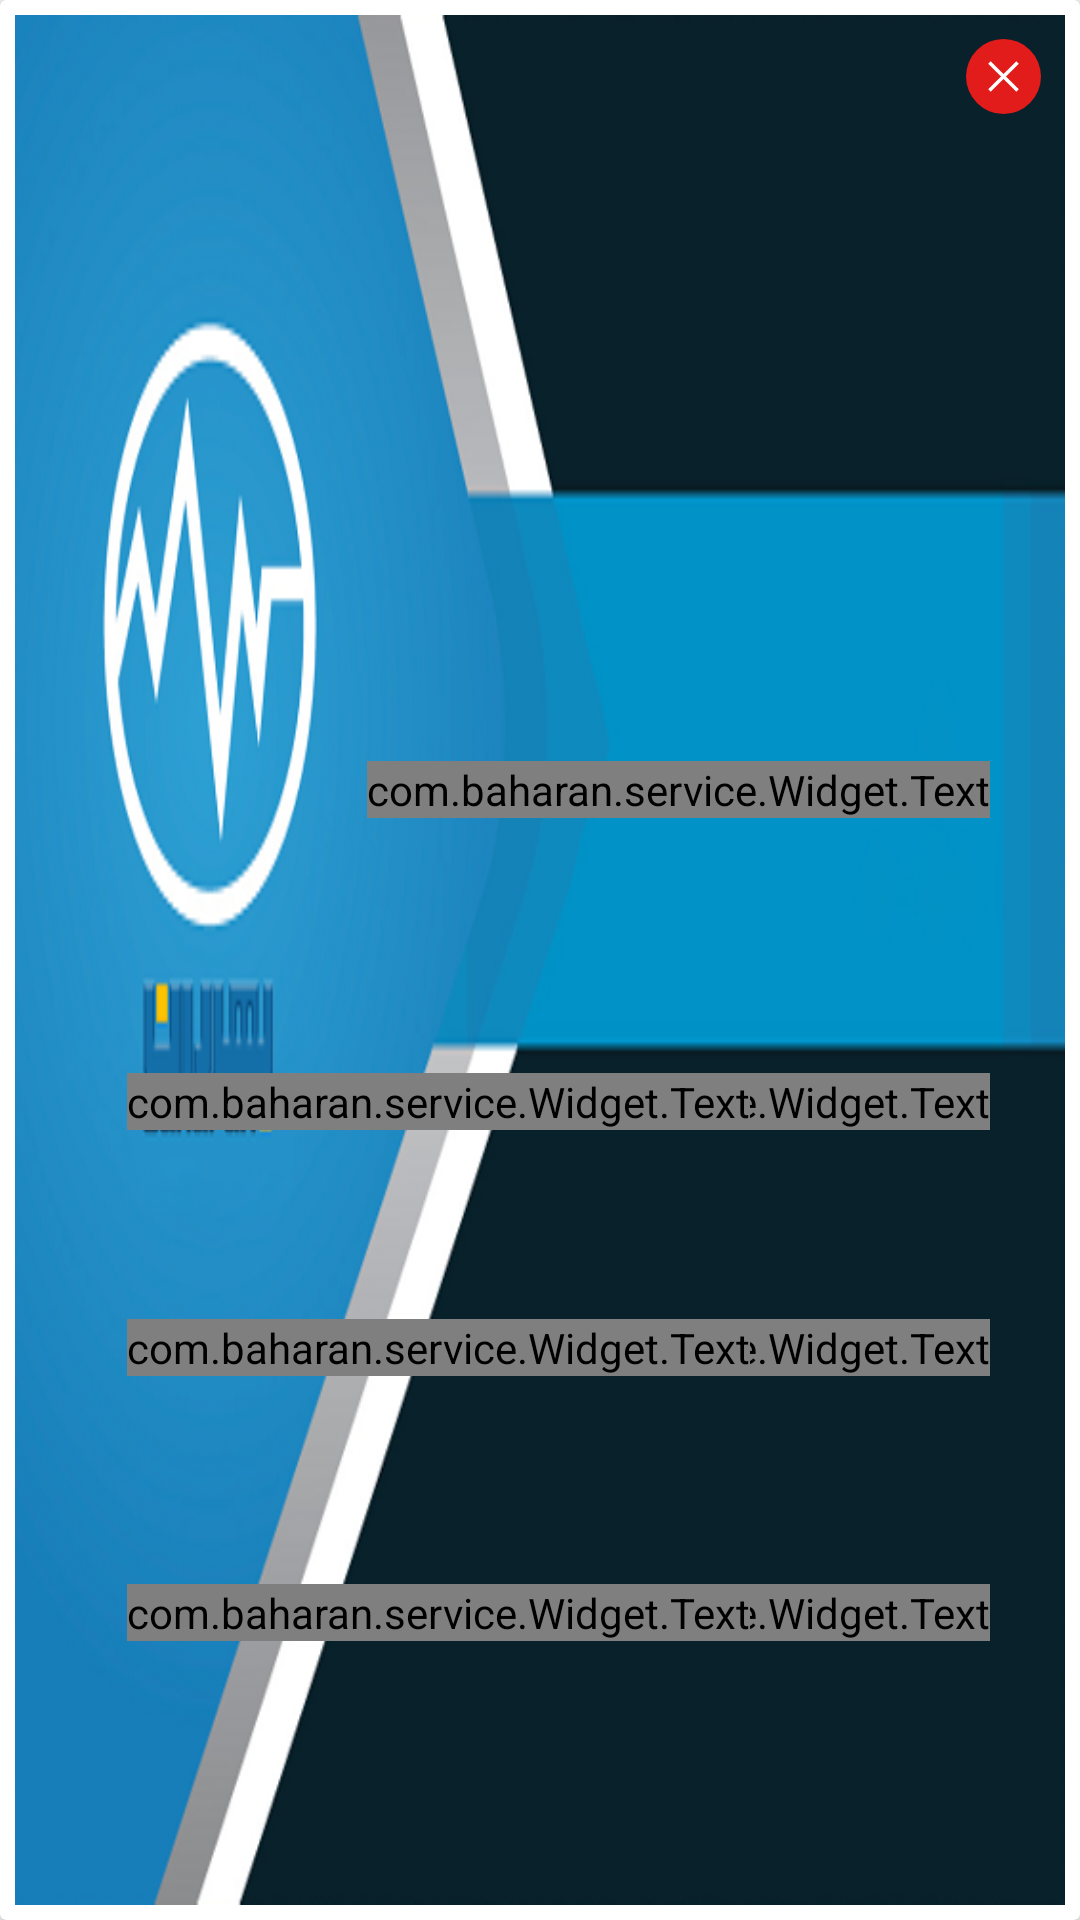

Screen size 1080x1920. Icon name, then its box in pixels as (x1, y1, x2, y2):
remove: (966, 39, 1041, 114)
